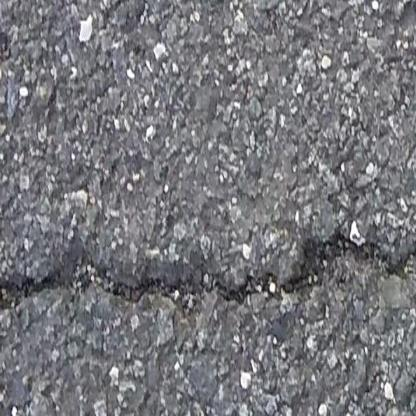Cracks: (0, 216, 416, 317)
